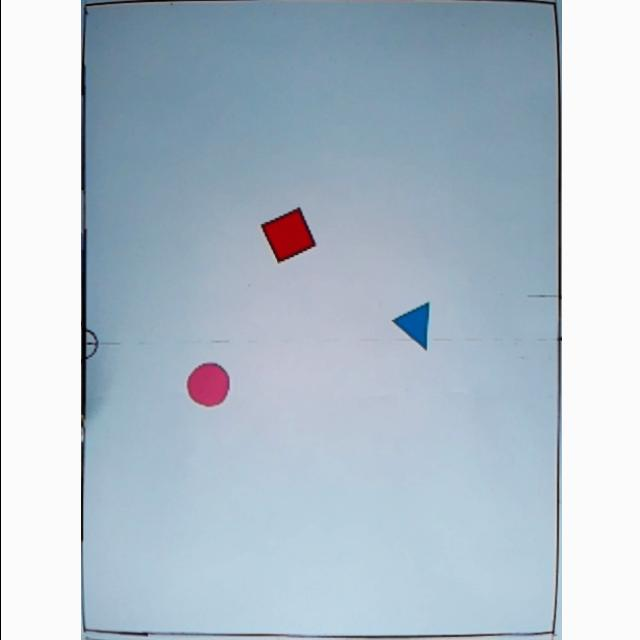blueTriangle: (389, 300, 431, 352)
pinkCircle: (184, 360, 228, 408)
redSquare: (257, 205, 317, 265)
